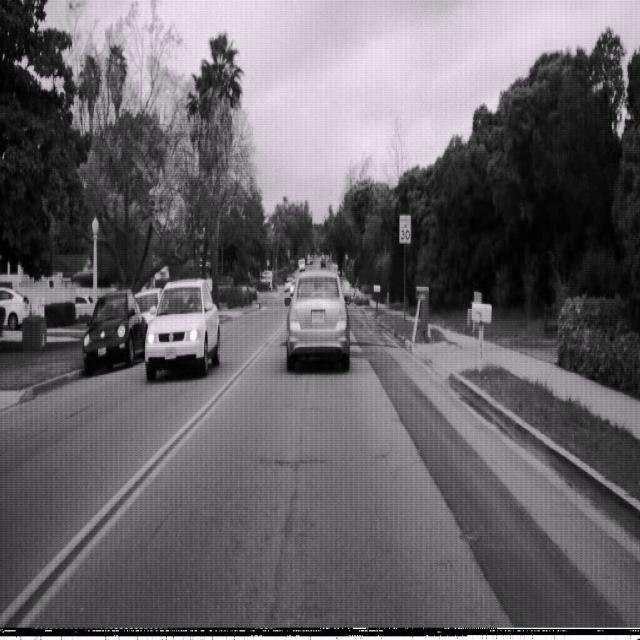speedLimit30: (398, 213, 411, 244)
